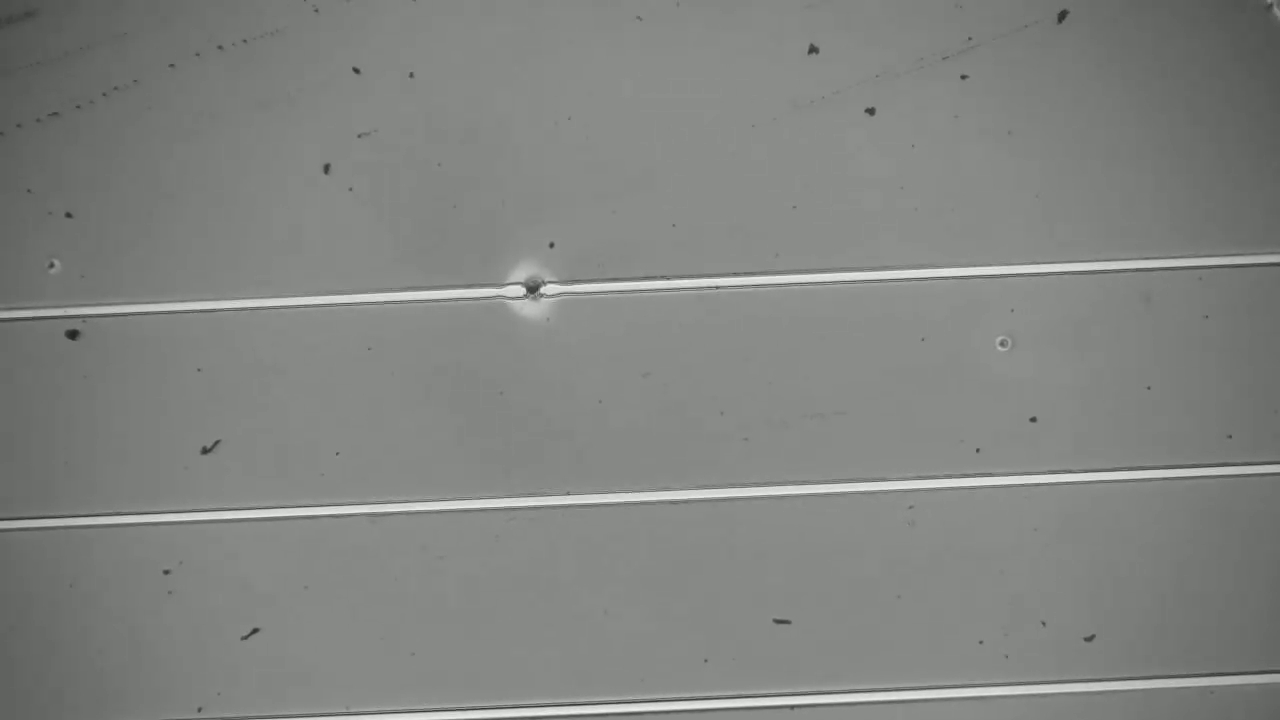stains_enbedded: (515, 269, 560, 314)
